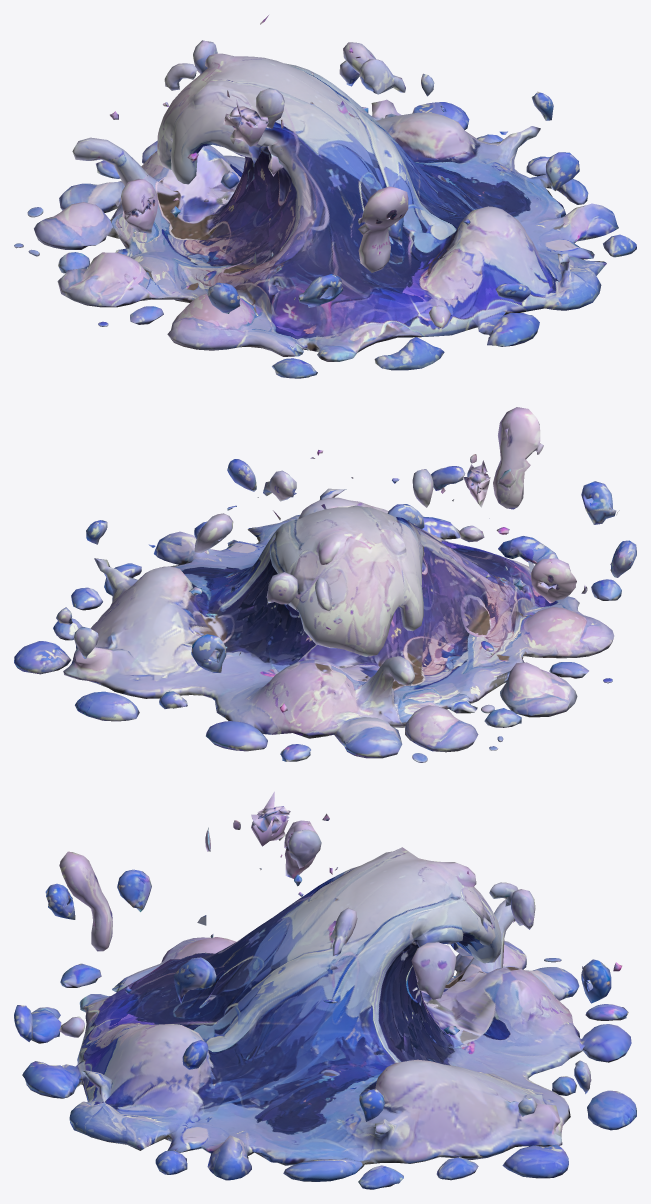
The model's file is PurpleStarWave.fbx.
3 views of the same model, one above another, from view 1: azimuth 30°, elevation 25°; view 2: azimuth 150°, elevation 25°; view 3: azimuth 270°, elevation 25° (orthographic). The views are drawn at different scales.
Visible parts, largest first — view 1: texture_mapping; view 2: texture_mapping; view 3: texture_mapping.
Part boxes in pixels (x1,y1,x2,y2): texture_mapping: [14, 15, 636, 378]; texture_mapping: [14, 407, 636, 762]; texture_mapping: [14, 791, 636, 1189].
Bounding box in the file's own units: 0.9853 × 0.9932 × 0.3688.
1 material, 1 textured.
